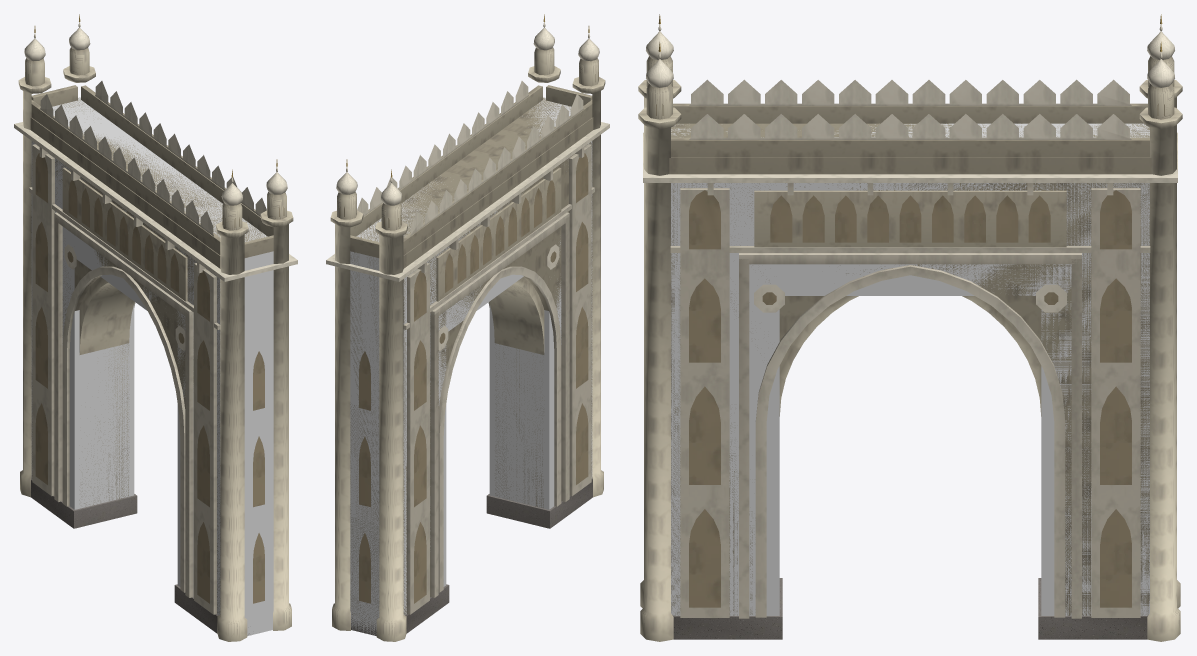
File: kaman_sher_e_batil.glb
3 renders of one model, left to right at view 1: azimuth 30°, elevation 25°; view 2: azimuth 150°, elevation 25°; view 3: azimuth 270°, elevation 25°, orthographic. The views are drawn at different scales.
Visible parts, largest first — view 1: kaman_sher_e_batil_hard, COL_kaman, kaman_sher_e_batil_soft; view 2: kaman_sher_e_batil_hard, COL_kaman, kaman_sher_e_batil_soft; view 3: kaman_sher_e_batil_hard, COL_kaman, kaman_sher_e_batil_soft.
Part boxes in pixels (<box>): kaman_sher_e_batil_hard: <box>14,72,297,634</box>; COL_kaman: <box>31,97,273,635</box>; kaman_sher_e_batil_soft: <box>18,14,293,641</box>; kaman_sher_e_batil_hard: <box>326,72,609,635</box>; COL_kaman: <box>350,97,592,635</box>; kaman_sher_e_batil_soft: <box>330,14,605,641</box>; kaman_sher_e_batil_hard: <box>643,79,1177,639</box>; COL_kaman: <box>671,123,1149,615</box>; kaman_sher_e_batil_soft: <box>638,14,1182,641</box>.
Size of the model in its own units: 14.9 by 89.91 by 74.9.
Materials: 5 (5 with a texture image).
